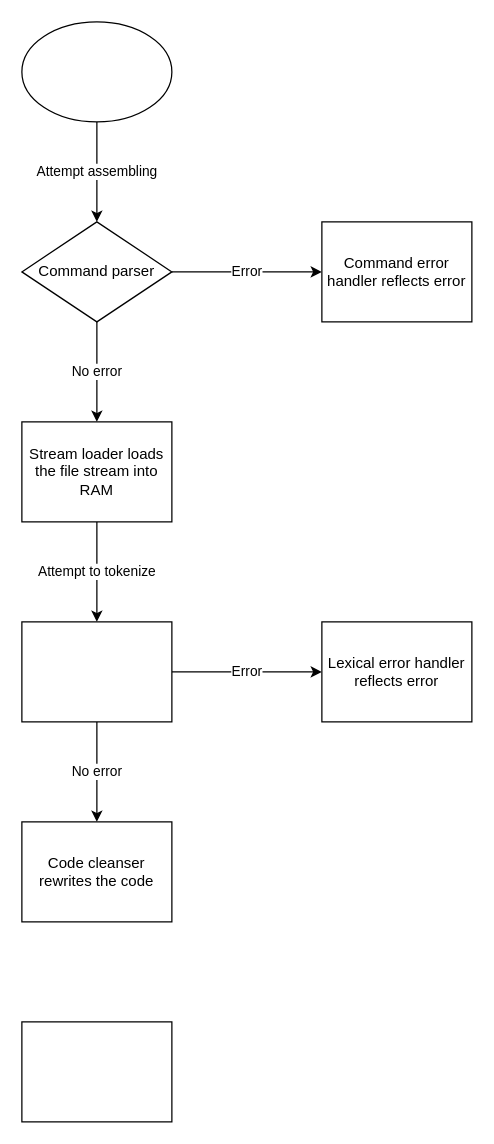
This 494x1144 diagram has some shape labels left out. The centre of each missing label's shape, as x and y in pixels:
Lexer fetches all tokens: (x=96, y=671)
Source assembly code: (x=96, y=71)
